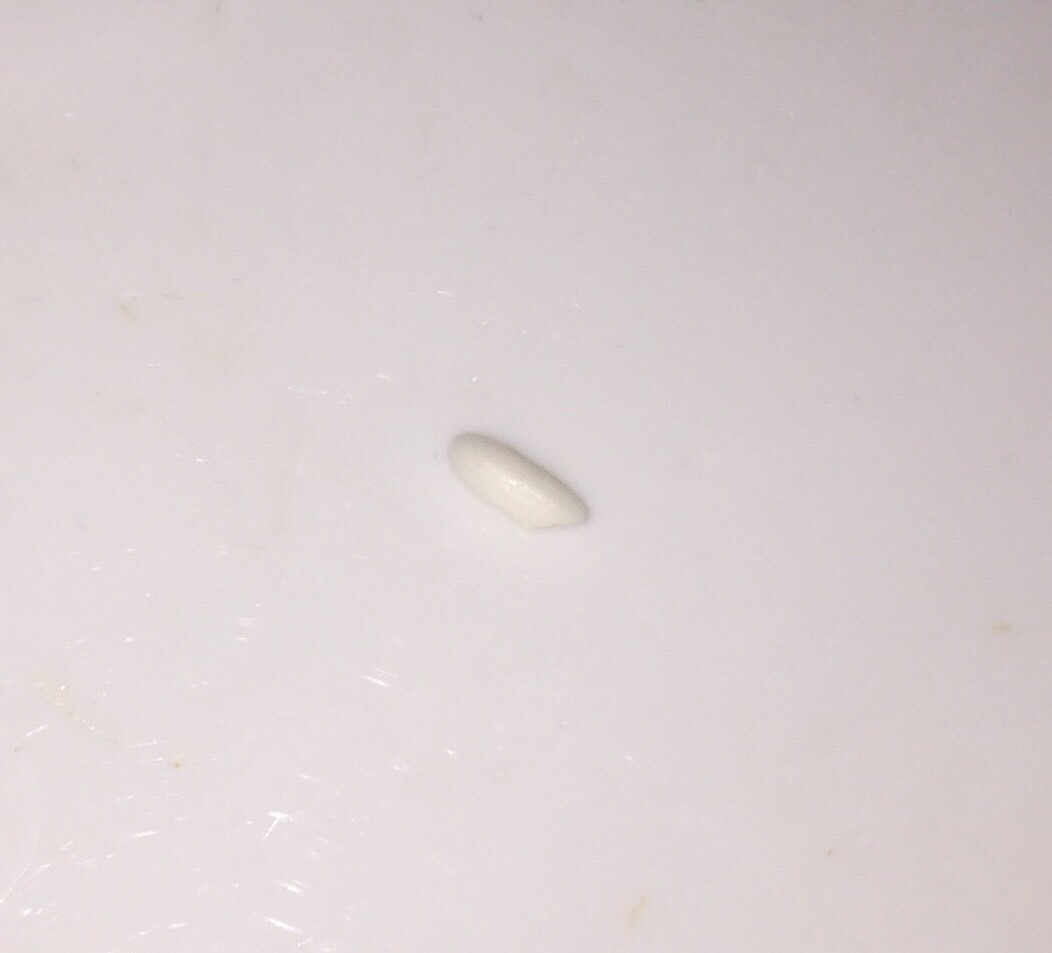Gao Nep Sap: (437, 408, 601, 552)
